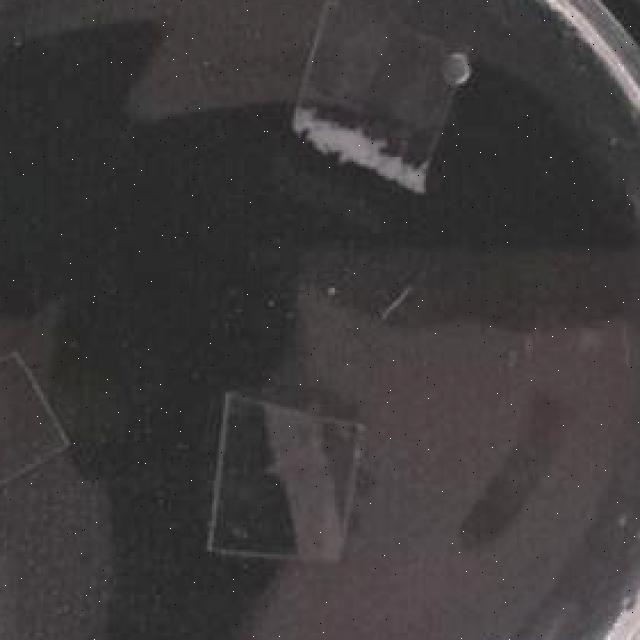Microplastic: (282, 0, 471, 197), (205, 386, 367, 578), (0, 348, 75, 510)
